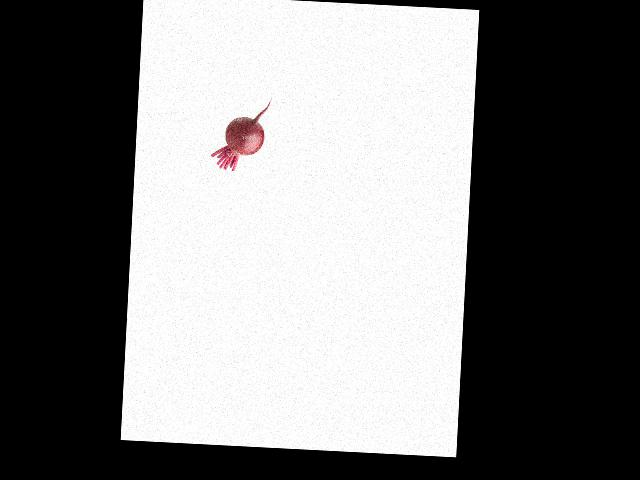beet: (209, 97, 271, 173)
